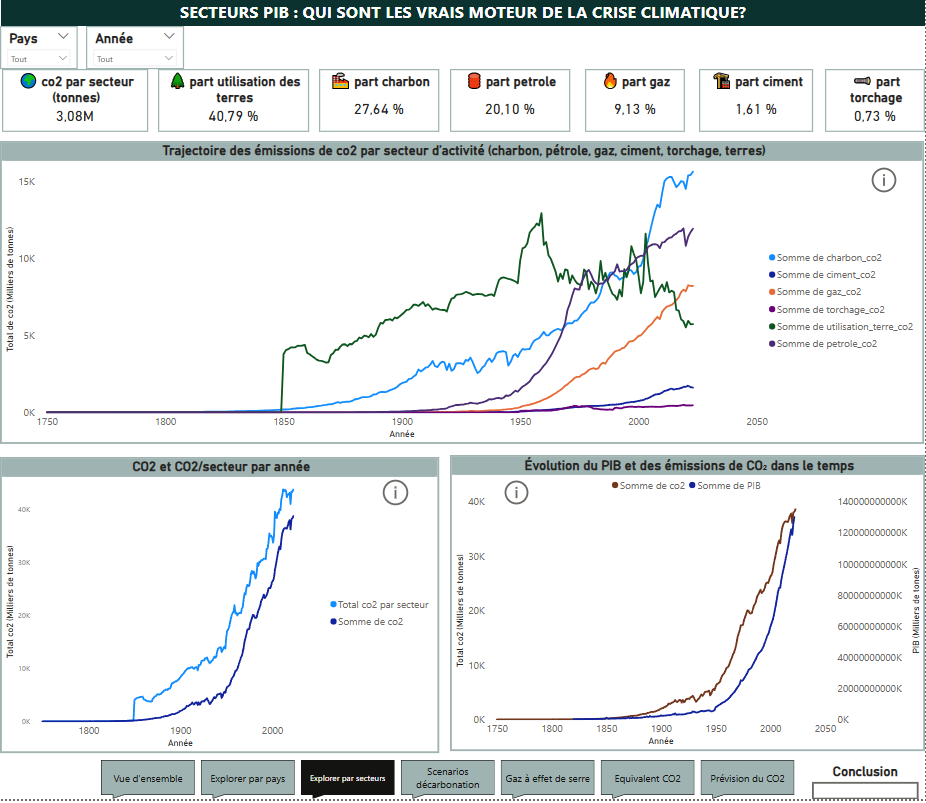

The dashboard page shown, as its layout file describes it:
{"tool":"powerbi","page":{"name":"Explorer par secteurs","canvas":[1500,1300],"ordinal":2},"visuals":[{"type":"slicer","fields":{"Values":["Data.Pays"]},"box":[0,47,126.4,69.7],"z":0},{"type":"lineChart","title":"Trajectoire des émissions de co2 par secteur d’activité (charbon, pétrole, gaz, ciment, torchage, terres)","fields":{"Category":["Data.Année"],"Y":["Sum(Data.charbon_co2)","Sum(Data.ciment_co2)","Sum(Data.gaz_co2)","Sum(Data.torchage_co2)","Sum(Data.utilisation_terre_co2)","Sum(Data.petrole_co2)"]},"box":[0,233.4,1497.8,491.1],"z":0,"group":"g2"},{"type":"lineChart","title":"Évolution du PIB et des émissions de CO₂ dans le temps","fields":{"Y":["Sum(Data.co2)"],"Category":["Data.Année"],"Y2":["Sum(Data.gdp)"]},"box":[729.4,742.4,770,479.8],"z":0,"group":"g4"},{"type":"group","id":"g1","title":"Groupe 4","box":[0,745,711.6,479.8],"z":0,"group":"g3"},{"type":"lineChart","title":"CO2 et CO2/secteur par année","fields":{"Y":["DAX.Total co2 par secteur","Sum(Data.co2)"],"Category":["Data.Année"]},"box":[0,745,711.6,479.8],"z":0,"group":"g1"},{"type":"slicer","fields":{"Values":["Data.Année"]},"box":[139.4,47,158.9,69.7],"z":1000},{"type":"actionButton","box":[1407,270,81,51.9],"z":1000,"group":"g2"},{"type":"actionButton","box":[614.3,775.8,56.7,53.5],"z":1000,"group":"g1"},{"type":"actionButton","box":[811.4,777.4,53.5,50.2],"z":1000,"group":"g4"},{"type":"card","title":"🌍 co2 par secteur (tonnes)","fields":{"Values":["DAX.Total co2 par secteur"]},"box":[3.2,116.7,236.7,102.1],"z":2000},{"type":"card","title":"🏭 part charbon","fields":{"Values":["DAX.Part_charbon_secteur"]},"box":[517.1,116.7,194.5,102.1],"z":3000},{"type":"card","title":"🏗️ part ciment","fields":{"Values":["DAX.Part_ciment_secteur"]},"box":[1133,116.7,184.8,102.1],"z":4000},{"type":"card","title":"🔥 part gaz","fields":{"Values":["DAX.Part_gaz_secteur"]},"box":[948.3,116.7,162.1,102.1],"z":5000},{"type":"card","title":"🛢️ part petrole","fields":{"Values":["DAX.Part_petrole_secteur"]},"box":[729.4,116.7,194.5,102.1],"z":6000},{"type":"card","title":"🌲 part utilisation des terres","fields":{"Values":["DAX.Part_utlisationTerre_secteur"]},"box":[256.1,116.7,244.8,102.1],"z":7000},{"type":"card","title":"🔦 part torchage","fields":{"Values":["DAX.Part_torchage_secteur"]},"box":[1337.3,116.7,162.1,102.1],"z":8000},{"type":"textbox","box":[1.6,0,1497.8,47],"z":9000},{"type":"pageNavigator","box":[163.7,1236.8,1129.8,63.2],"z":10000},{"type":"group","id":"g2","title":"Groupe 1","box":[0,233.4,1497.8,491.1],"z":11000},{"type":"group","id":"g3","title":"Groupe 2","box":[0,745,711.6,479.8],"z":12000},{"type":"group","id":"g4","title":"Groupe 3","box":[729.4,742.4,770,479.8],"z":13000},{"type":"actionButton","title":"Conclusion","box":[1316,1242.8,172.8,57.6],"z":14000}]}

Visuals, with their boxes in screenshot pixels (x1, y1, x2, y2), scaled from the page's 1500x1300 canvas onto the 926x803 screenshot:
slicer - Data.Pays: x1=0, y1=29, x2=78, y2=72
"Trajectoire des émissions de co2 par secteur d’activité (charbon, pétrole, gaz, ciment, torchage, terres)" lineChart: x1=0, y1=144, x2=925, y2=448
"Évolution du PIB et des émissions de CO₂ dans le temps" lineChart: x1=450, y1=459, x2=925, y2=755
"Groupe 4" group: x1=0, y1=460, x2=439, y2=757
"CO2 et CO2/secteur par année" lineChart: x1=0, y1=460, x2=439, y2=757
slicer - Data.Année: x1=86, y1=29, x2=184, y2=72
actionButton: x1=869, y1=167, x2=919, y2=199
actionButton: x1=379, y1=479, x2=414, y2=512
actionButton: x1=501, y1=480, x2=534, y2=511
"🌍 co2 par secteur (tonnes)" card: x1=2, y1=72, x2=148, y2=135
"🏭 part charbon" card: x1=319, y1=72, x2=439, y2=135
"🏗️ part ciment" card: x1=699, y1=72, x2=814, y2=135
"🔥 part gaz" card: x1=585, y1=72, x2=685, y2=135
"🛢️ part petrole" card: x1=450, y1=72, x2=570, y2=135
"🌲 part utilisation des terres" card: x1=158, y1=72, x2=309, y2=135
"🔦 part torchage" card: x1=826, y1=72, x2=925, y2=135
textbox: x1=1, y1=0, x2=925, y2=29
pageNavigator: x1=101, y1=764, x2=799, y2=802
"Groupe 1" group: x1=0, y1=144, x2=925, y2=448
"Groupe 2" group: x1=0, y1=460, x2=439, y2=757
"Groupe 3" group: x1=450, y1=459, x2=925, y2=755
"Conclusion" actionButton: x1=812, y1=768, x2=919, y2=802
